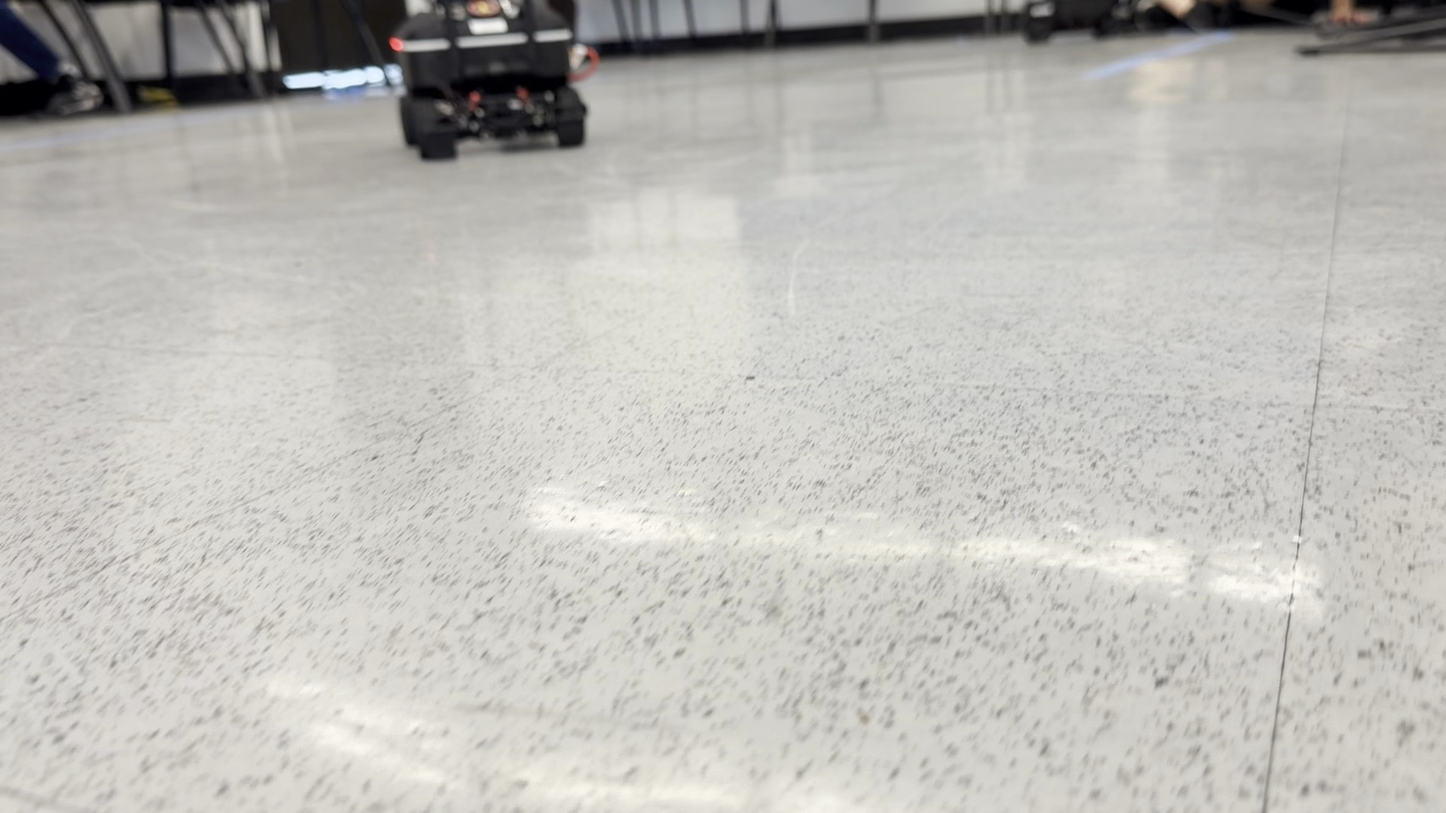racecar: (394, 2, 591, 159)
